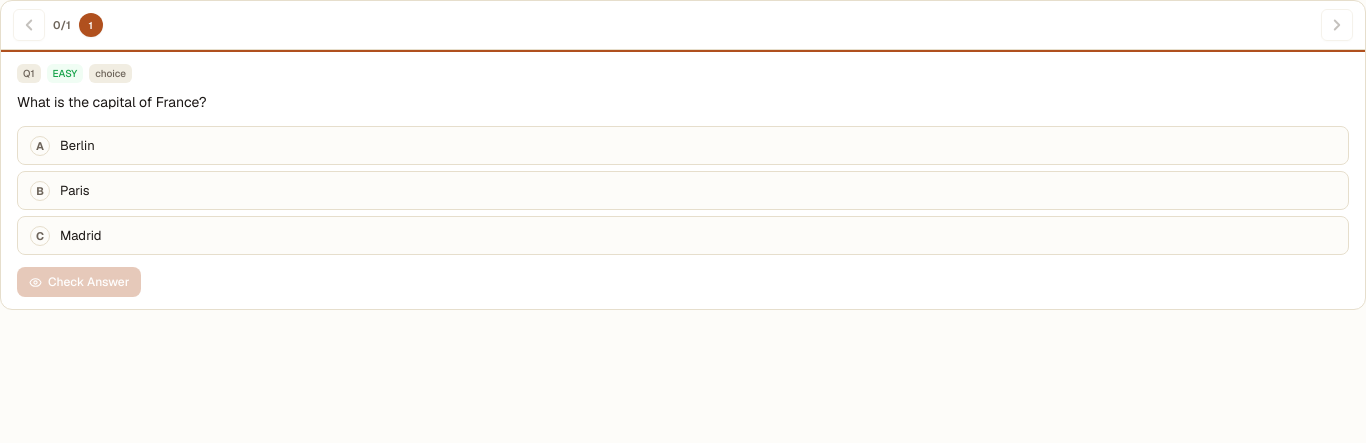
Scenario: QuizViewer smoke › retry (redo) path clears selection and feedback, then regrades a new answer
This screenshot has width=1366, height=443.
Step 1. Click the button "B Paris" → (40, 191), box [17, 171, 1349, 210]
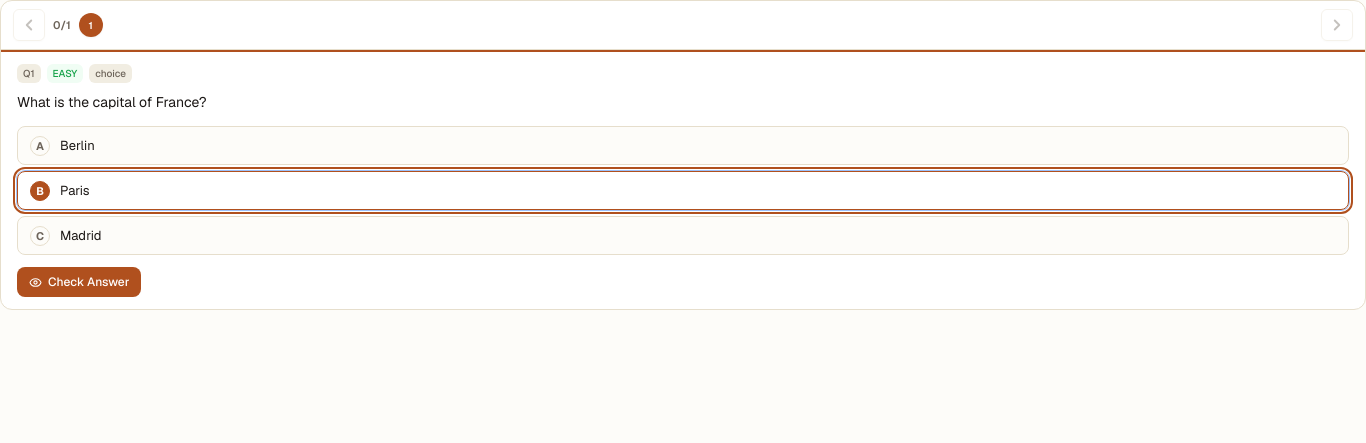
Step 2. Click the button "Check Answer" → (79, 282), box [17, 267, 141, 297]
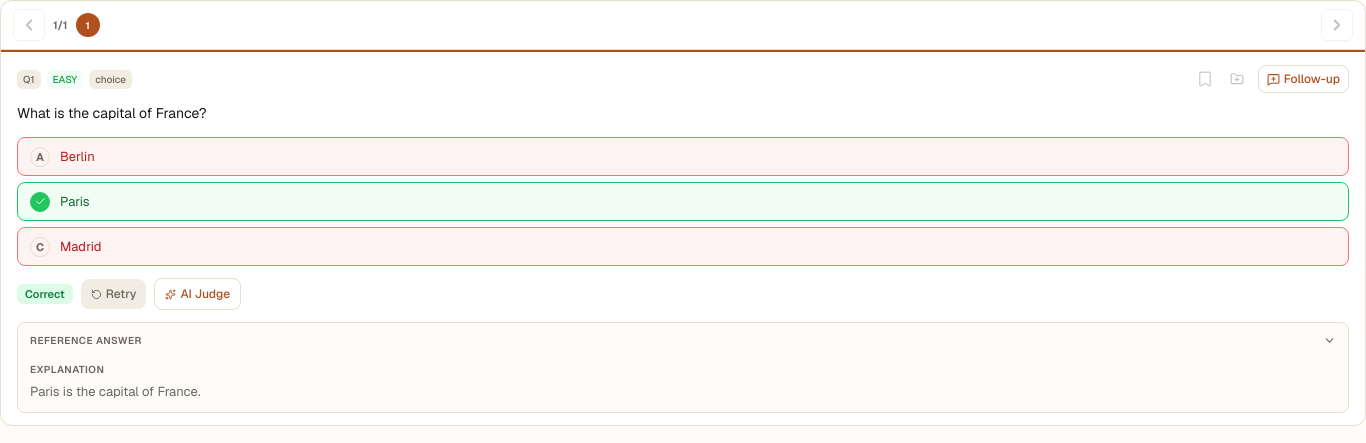
Expected: the text "Correct" is shown, [17, 284, 73, 304]
Step 3. Click the button "Retry" → (114, 294), box [81, 279, 146, 309]
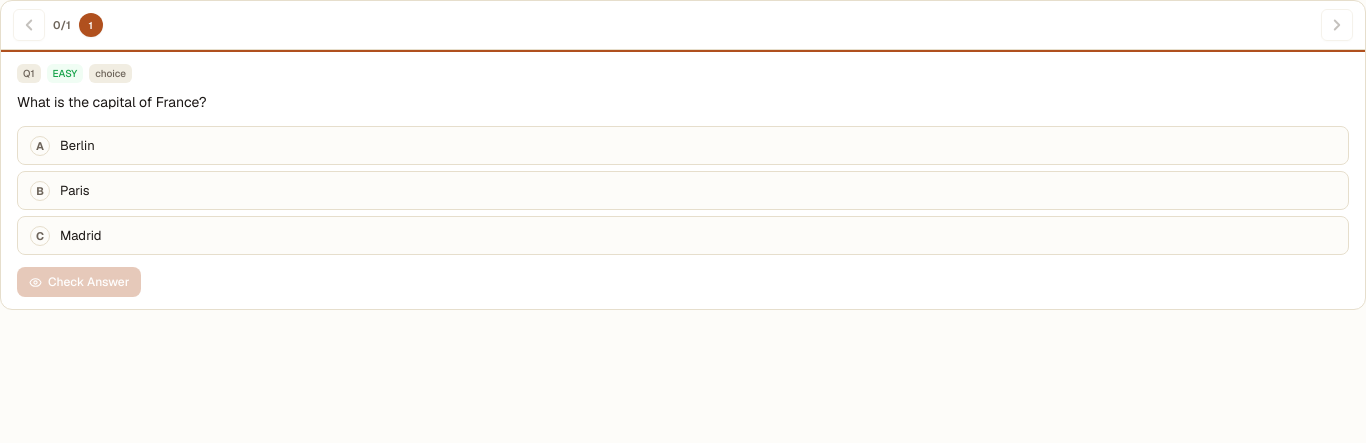
Expected: the text "Correct" is gone
Expected: the text "Explanation" is gone
Expected: the button "B Paris" is enabled, [17, 171, 1349, 210]
Note: Redo with a wrong answer and get regraded accordingly.
Step 4. Click the button "A Berlin" → (77, 145), box [17, 126, 1349, 165]
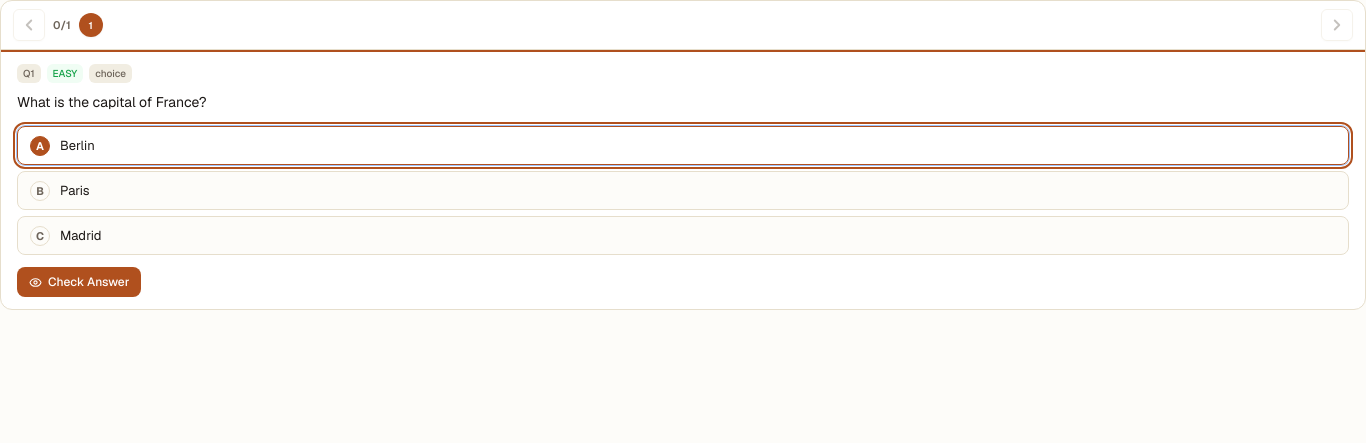
Step 5. Click the button "Check Answer" → (79, 282), box [17, 267, 141, 297]
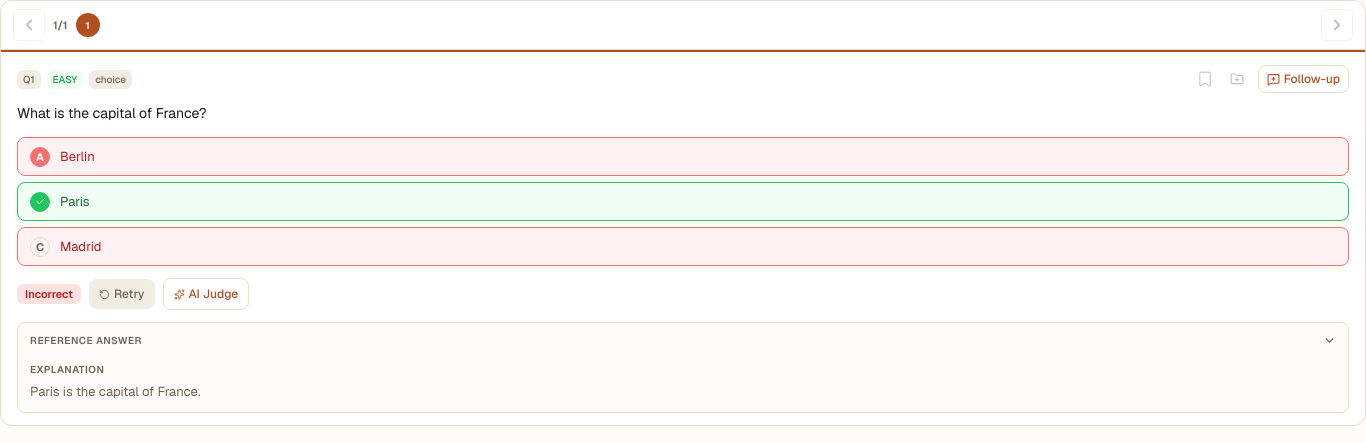
Expected: the text "Incorrect" is shown, [17, 284, 81, 304]
